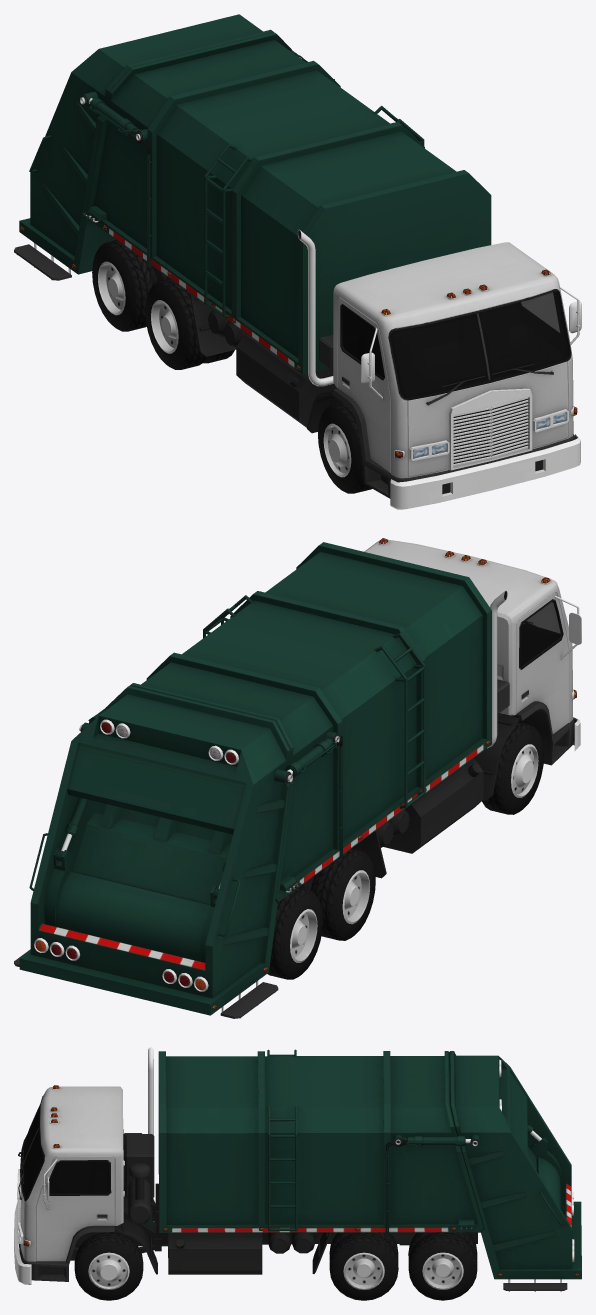
File: bintruck.glb
3 views of the same model, one above another, from view 1: azimuth 30°, elevation 25°; view 2: azimuth 150°, elevation 25°; view 3: azimuth 270°, elevation 25° (orthographic). The views are drawn at different scales.
Parts seen in each view (by area): view 1: body_0, body_1, wheel_5, wheel_0, wheel_1, body_2; view 2: body_0, wheel_0, wheel_5, wheel_1, body_1, body_2; view 3: body_0, wheel_3, wheel_2, wheel_4, body_1.
Part boxes in pixels (left/top/right/bottom): body_0: left=14, top=14, right=581, bottom=509; body_1: left=342, top=291, right=568, bottom=397; wheel_5: left=92, top=240, right=169, bottom=331; wheel_0: left=145, top=278, right=234, bottom=369; wheel_1: left=318, top=402, right=372, bottom=493; body_2: left=20, top=225, right=577, bottom=458; body_0: left=14, top=539, right=581, bottom=1018; wheel_0: left=299, top=848, right=375, bottom=940; wheel_5: left=267, top=887, right=323, bottom=979; wheel_1: left=482, top=722, right=543, bottom=814; body_1: left=520, top=602, right=560, bottom=666; body_2: left=35, top=538, right=576, bottom=1009; body_0: left=14, top=1047, right=581, bottom=1291; wheel_3: left=329, top=1232, right=398, bottom=1300; wheel_2: left=408, top=1232, right=477, bottom=1300; wheel_4: left=74, top=1232, right=143, bottom=1300; body_1: left=22, top=1105, right=109, bottom=1198.
Bounding box in the file's own units: 2.63 × 2.83 × 7.66.
Materials: 3 (3 with a texture image).
